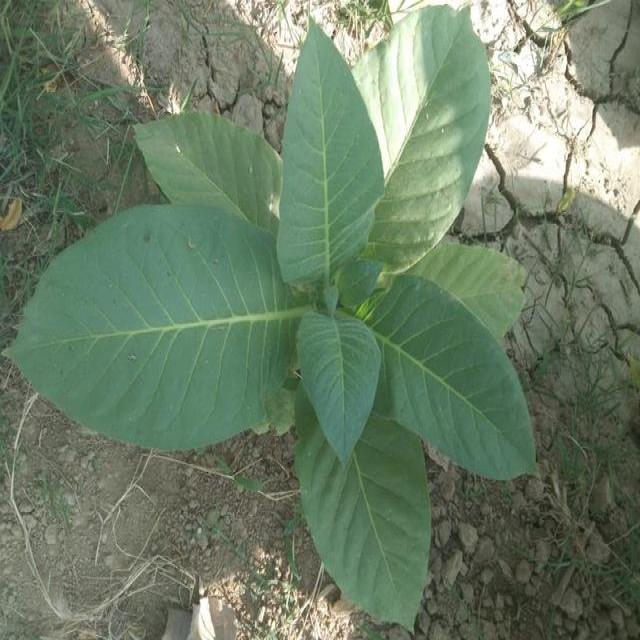crop: (7, 4, 540, 619)
